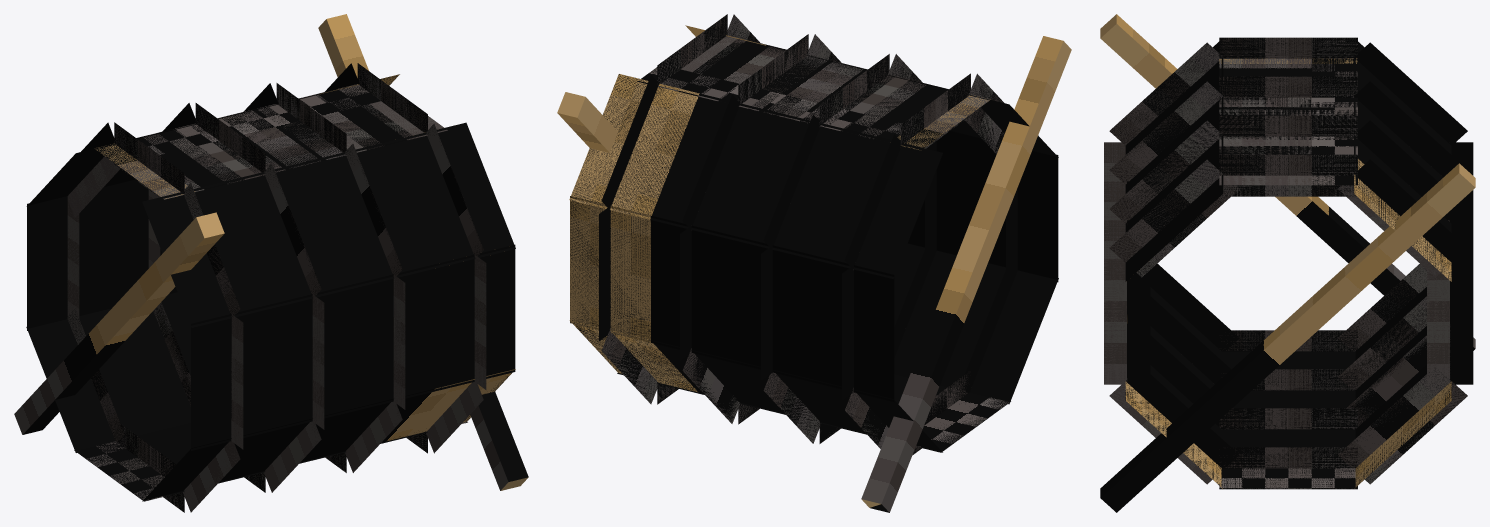
Rendered from barbed_wire.obj.
3 renders of one model, left to right at view 1: azimuth 30°, elevation 25°; view 2: azimuth 150°, elevation 25°; view 3: azimuth 270°, elevation 25°, orthographic.
Visible parts, largest first — view 1: barbed_wire; view 2: barbed_wire; view 3: barbed_wire.
Boxes of the visible parts, x1,y1,x2,y2 form: barbed_wire: [14, 14, 528, 512]; barbed_wire: [557, 14, 1071, 512]; barbed_wire: [1100, 14, 1475, 512].
Size of the model in its own units: 1 by 1.03 by 1.02.
